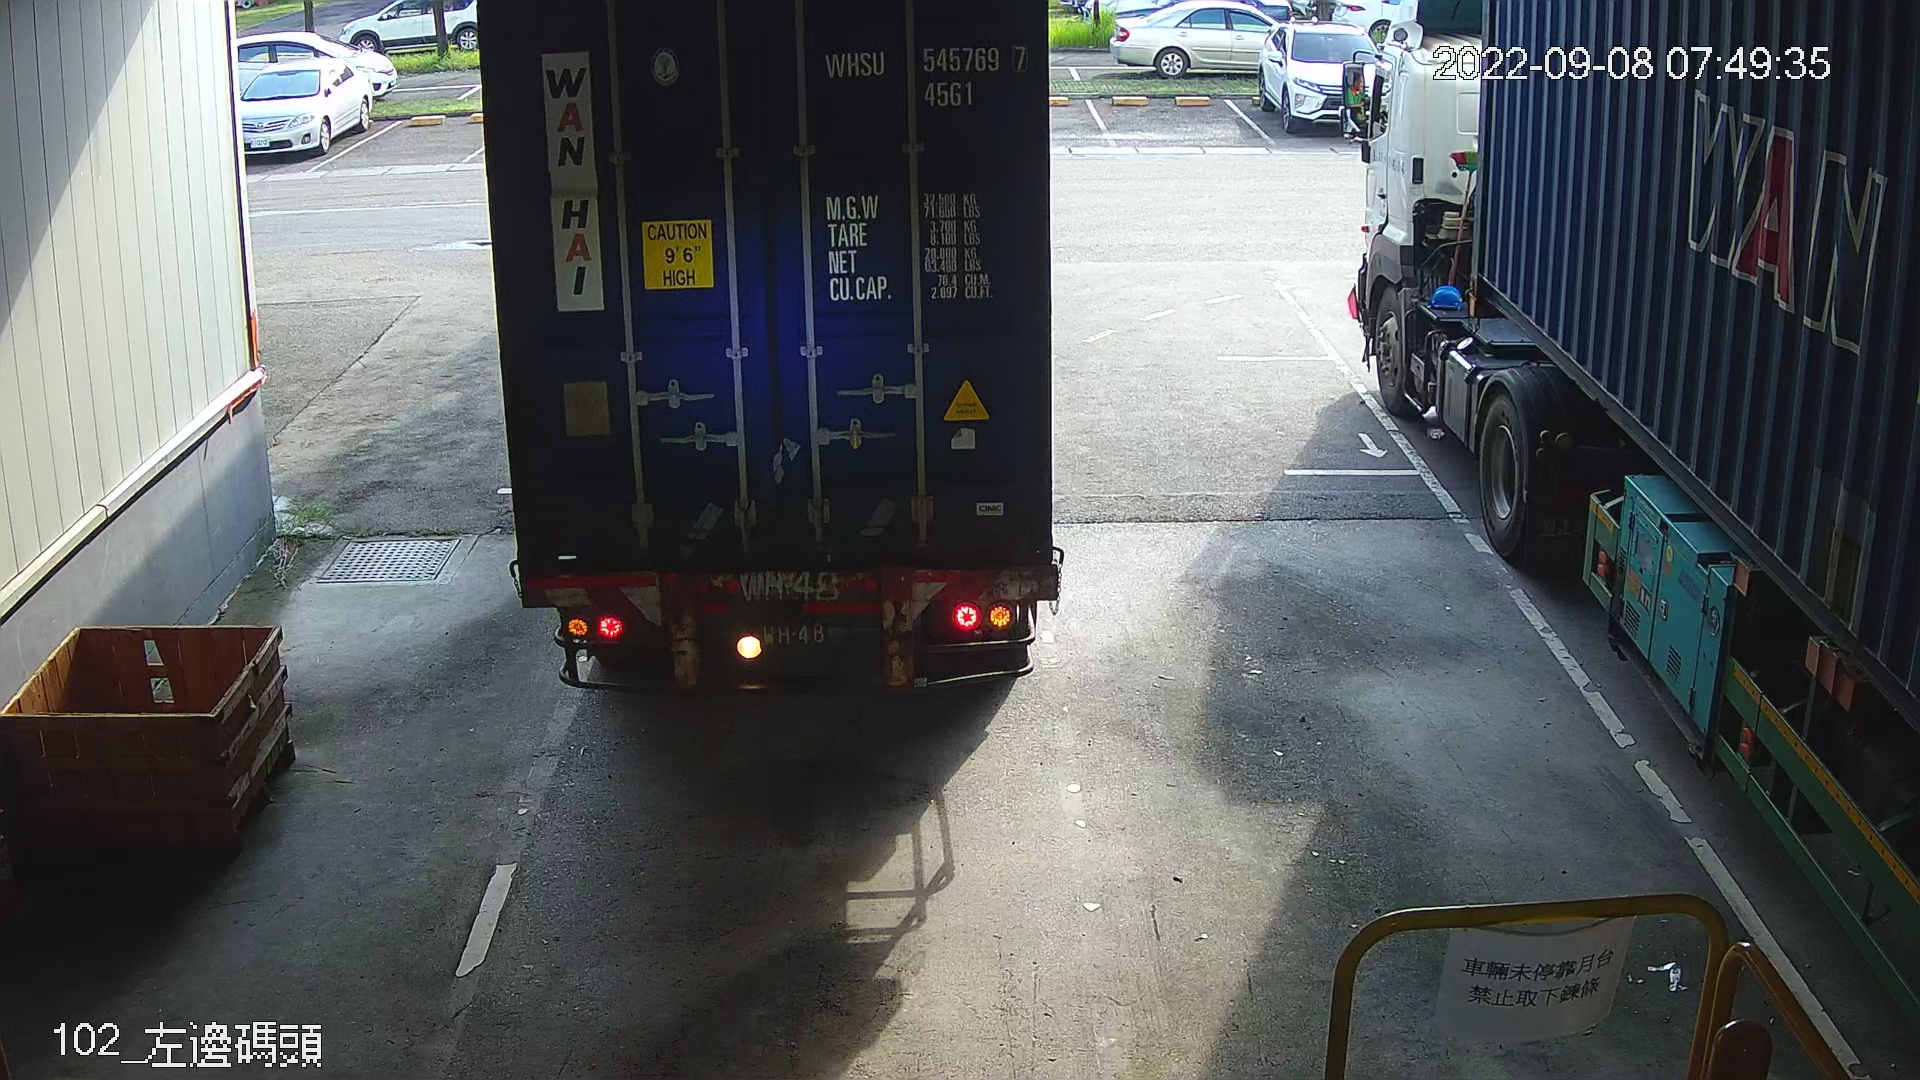container: (814, 36, 1036, 117)
